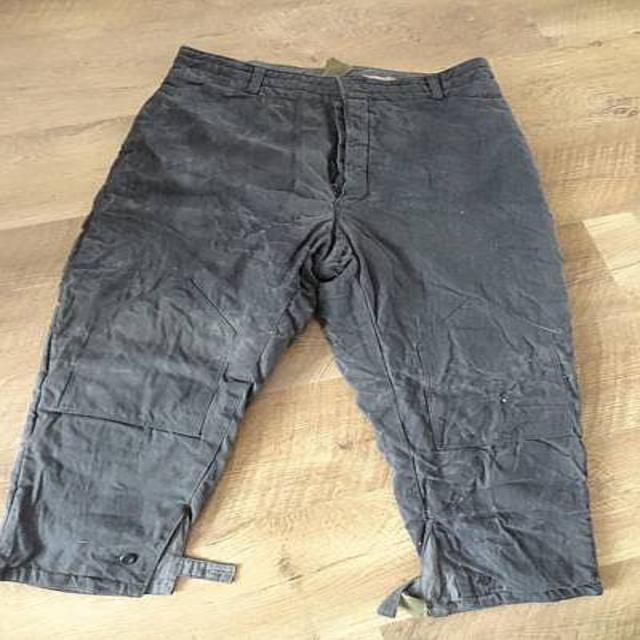TROUSER: (2, 38, 640, 618)
